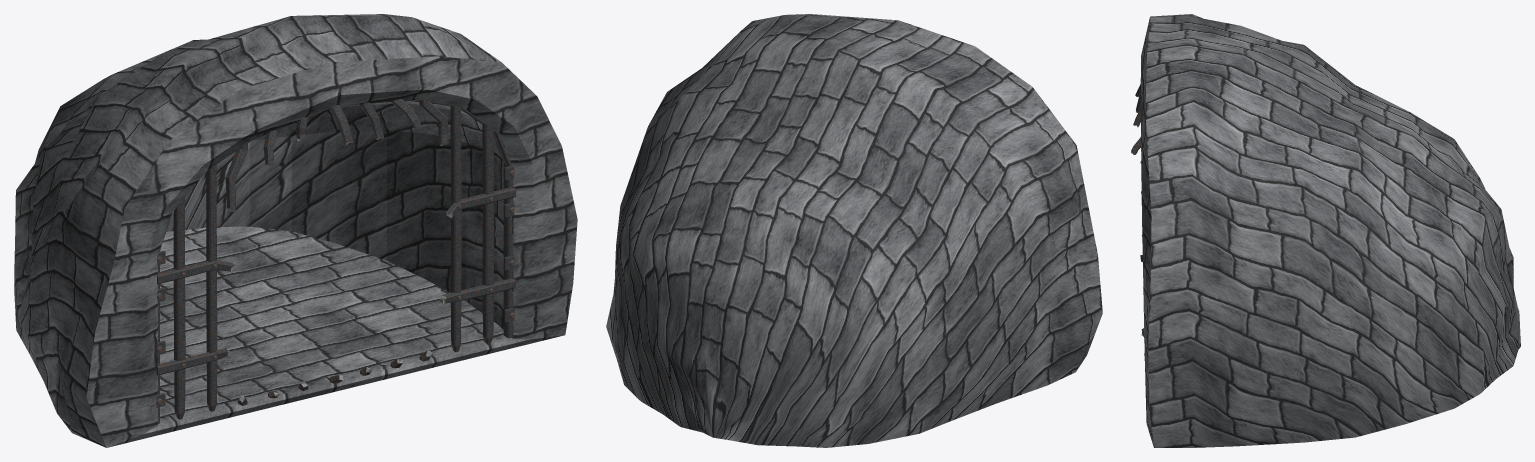
The model's file is DragonDungeonCave.glb.
3 views of the same model, side by side, from view 1: azimuth 30°, elevation 25°; view 2: azimuth 150°, elevation 25°; view 3: azimuth 270°, elevation 25° (orthographic). The views are drawn at different scales.
Parts seen in each view (by area): view 1: Dungeon Cave - Masonry, Gate | Side lattice, Gate | Torn bars, Gate | Arch frame; view 2: Dungeon Cave - Masonry; view 3: Dungeon Cave - Masonry.
Boxes of the visible parts, x1,y1,x2,y2 form: Dungeon Cave - Masonry: (14,14,577,447); Gate | Side lattice: (156,106,515,419); Gate | Torn bars: (225,99,448,405); Gate | Arch frame: (156,99,514,423); Dungeon Cave - Masonry: (606,14,1102,447); Dungeon Cave - Masonry: (1140,14,1520,447).
Bounding box in the file's own units: 14.24 × 9.28 × 10.94.
4 materials, 2 textured.
